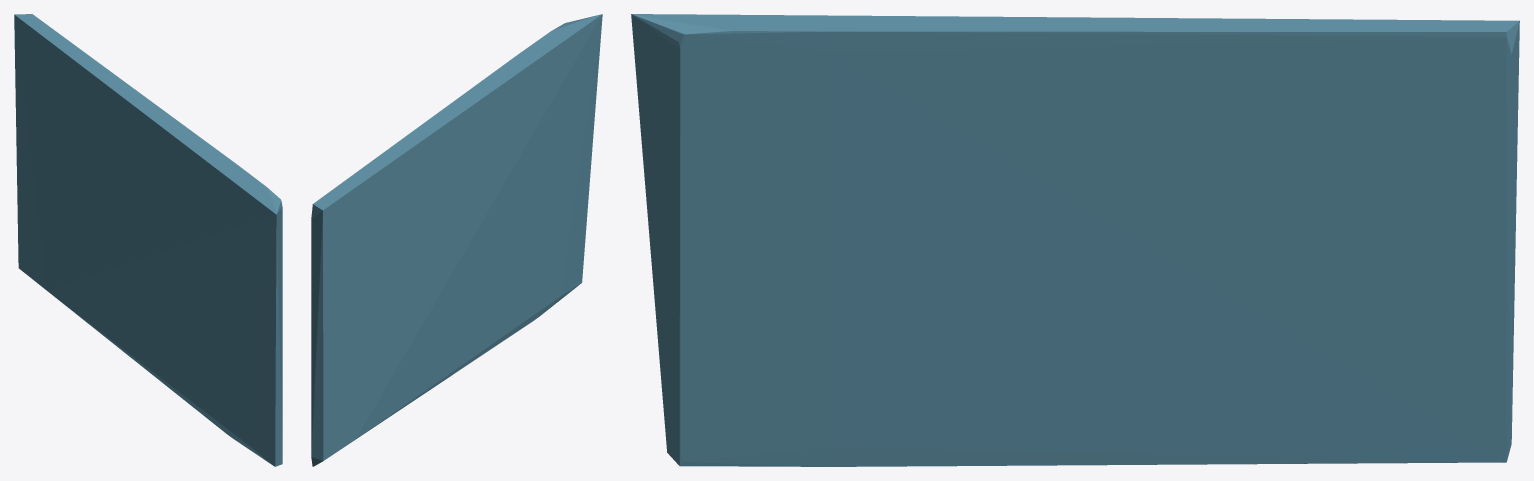
The model's file is structure_wall_straight_a01.glb.
3 views of the same model, side by side, from view 1: azimuth 30°, elevation 25°; view 2: azimuth 150°, elevation 25°; view 3: azimuth 270°, elevation 25° (orthographic). The views are drawn at different scales.
Visible parts, largest first — view 1: geometry_0; view 2: geometry_0; view 3: geometry_0.
Boxes of the visible parts, left/top/right/bottom form: geometry_0: left=14, top=14, right=282, bottom=466; geometry_0: left=311, top=14, right=602, bottom=466; geometry_0: left=631, top=14, right=1519, bottom=466.
Size of the model in its own units: 0.0234 by 0.2595 by 0.48.
